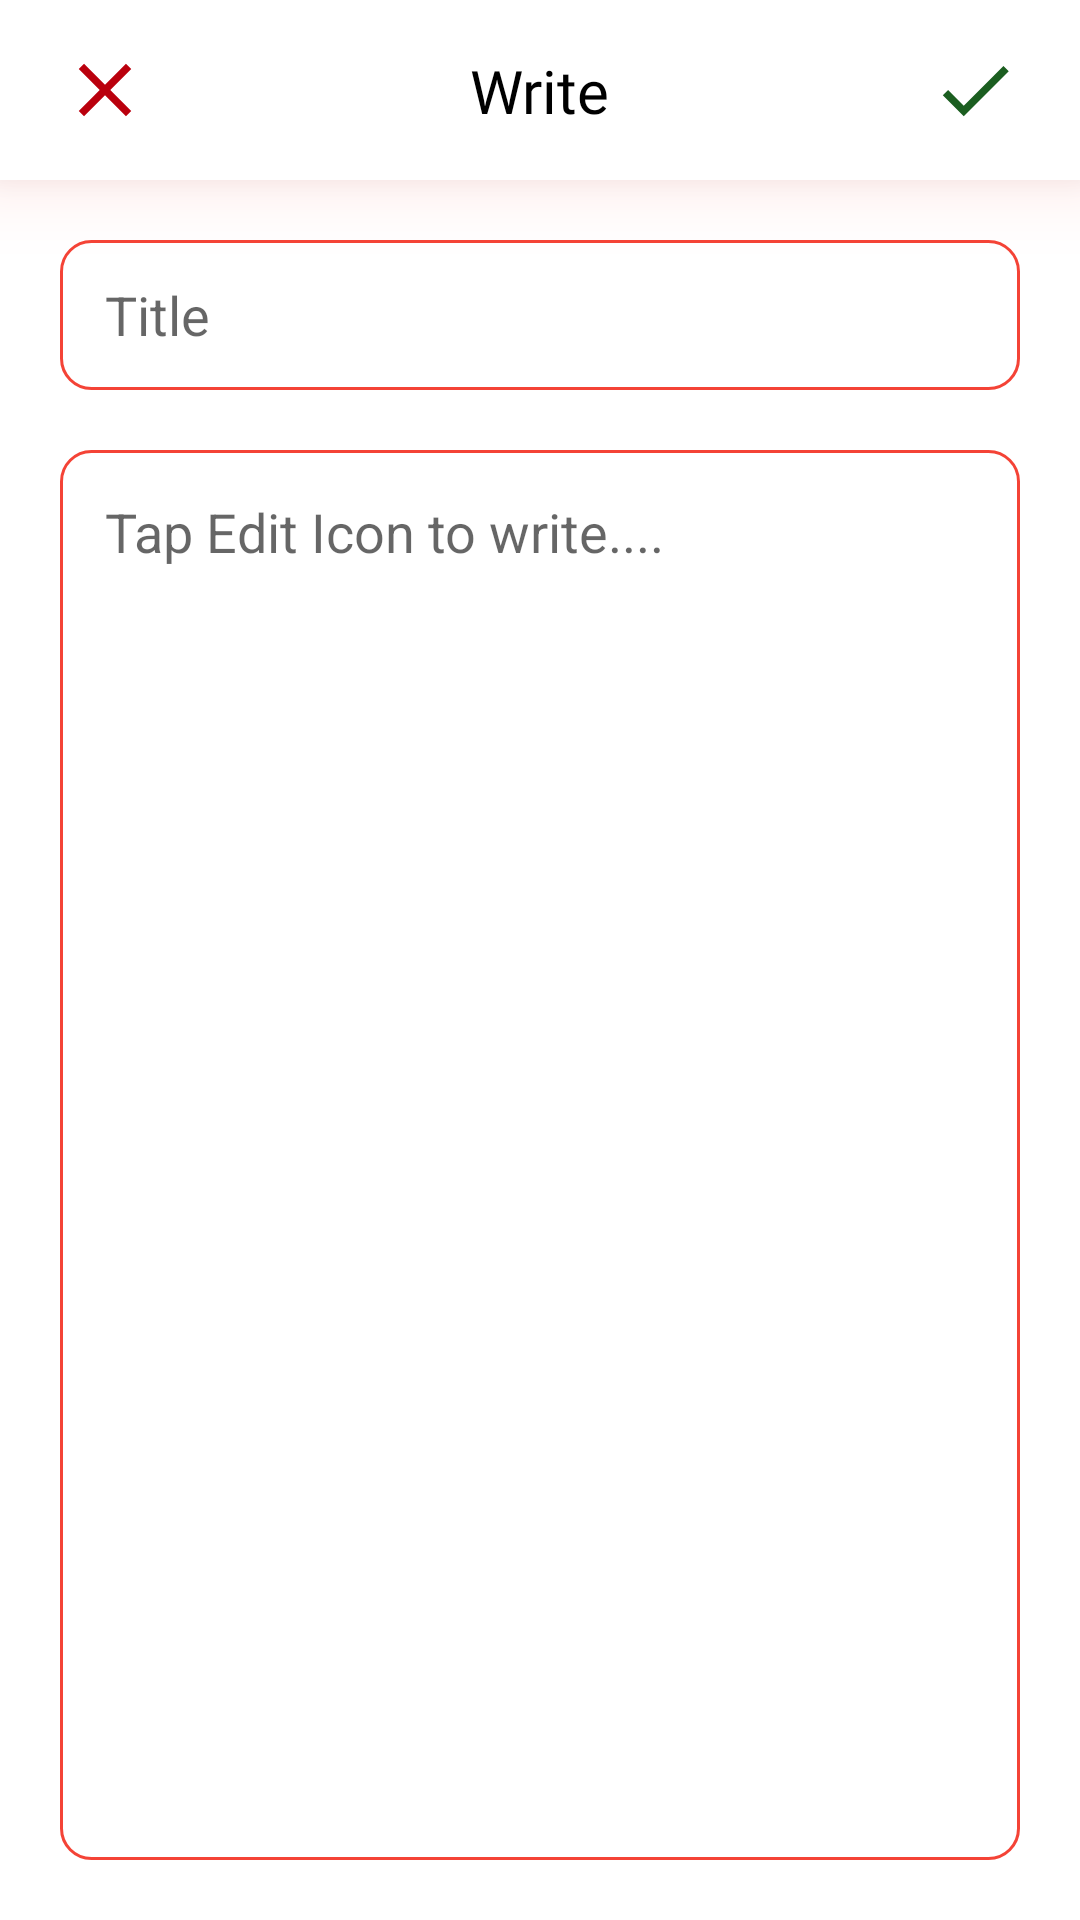

Icon click points for this 1080px×1920px phone screenshot, format [x,y]:
check: [976,91]
clear: [105,90]
